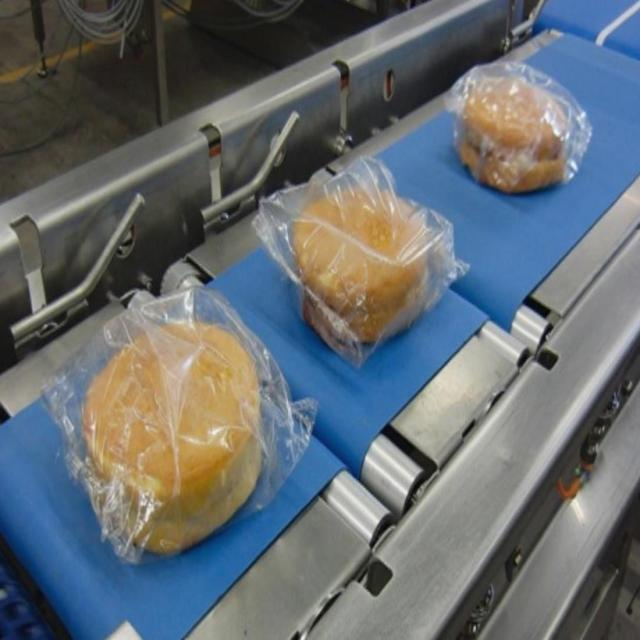food: (80, 316, 264, 556), (283, 166, 442, 356), (456, 52, 575, 200)
